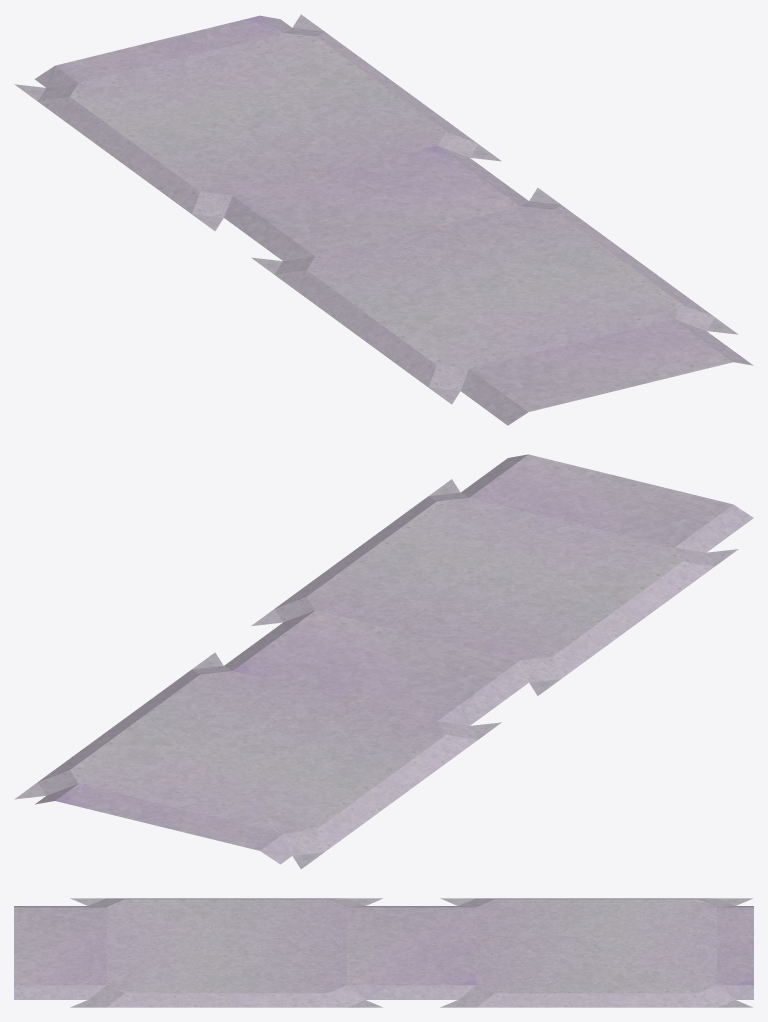
File: cor_floor.obj
3 renders of one model, top to bottom at view 1: azimuth 30°, elevation 25°; view 2: azimuth 150°, elevation 25°; view 3: azimuth 270°, elevation 25°, orthographic. The views are drawn at different scales.
Parts seen in each view (by area): view 1: floor_Cube.002; view 2: floor_Cube.002; view 3: floor_Cube.002.
Boxes of the visible parts, left/top/right/bottom form: floor_Cube.002: left=14, top=14, right=753, bottom=425; floor_Cube.002: left=14, top=454, right=753, bottom=869; floor_Cube.002: left=14, top=898, right=753, bottom=1007.
Size of the model in its own units: 1.4 by 0.04 by 4.
1 material, 1 textured.
